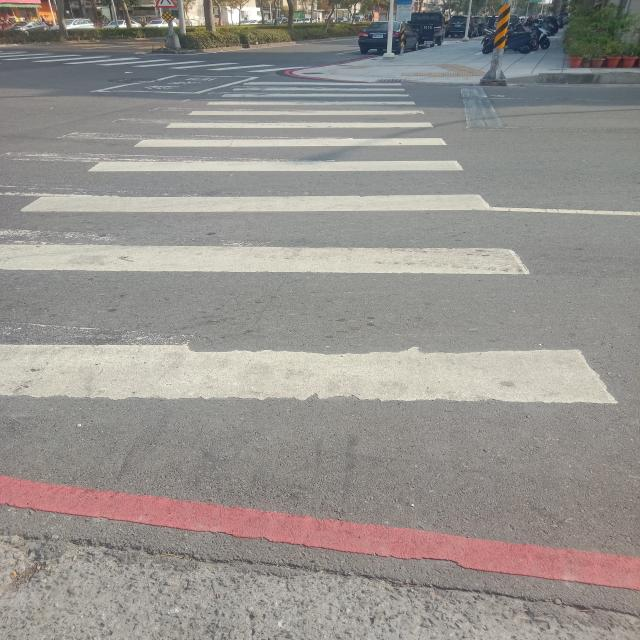zebra crossing: (11, 82, 567, 407), (14, 50, 308, 76)
